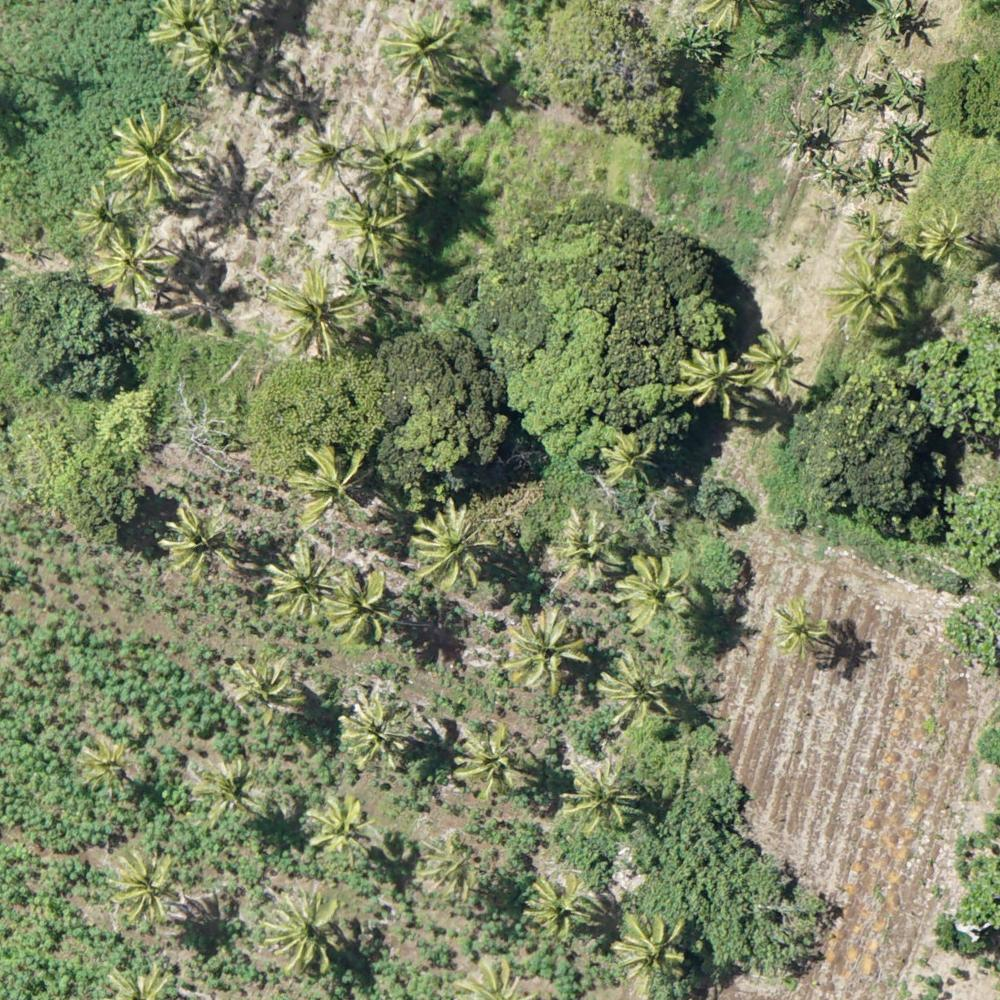Palm: (271, 264, 365, 362), (111, 108, 199, 202), (821, 246, 907, 338), (413, 505, 495, 588), (354, 123, 437, 204), (288, 446, 369, 526), (271, 891, 351, 971), (506, 612, 589, 689), (336, 693, 416, 772), (596, 648, 675, 726), (387, 9, 463, 89), (161, 499, 238, 577), (261, 544, 336, 621), (225, 652, 304, 723), (614, 555, 695, 624), (97, 229, 174, 301), (546, 513, 623, 584), (456, 725, 531, 797), (324, 571, 400, 642), (614, 913, 690, 983), (331, 200, 407, 269), (565, 762, 641, 828), (111, 855, 181, 925), (180, 14, 252, 82), (524, 871, 590, 942), (673, 346, 740, 414), (193, 758, 263, 822), (302, 793, 371, 857), (78, 733, 141, 799), (73, 185, 137, 247), (742, 331, 804, 389), (915, 207, 976, 264), (768, 599, 824, 655), (291, 128, 351, 179), (602, 430, 655, 486)
